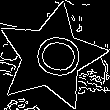O_W: (21, 30, 81, 83)
